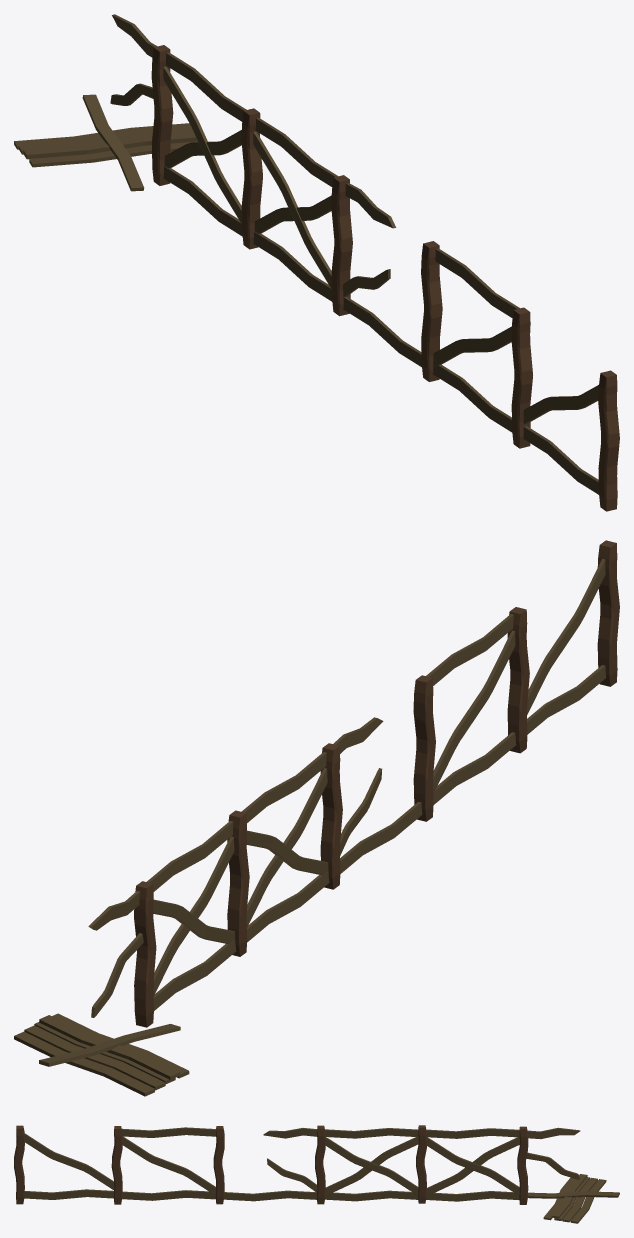
Rendered from Fence1.fbx.
3 renders of one model, top to bottom at view 1: azimuth 30°, elevation 25°; view 2: azimuth 150°, elevation 25°; view 3: azimuth 270°, elevation 25°, orthographic. The views are drawn at different scales.
Visible parts, largest first — view 1: Cube, Cube.002, Cube.007, Cube.011, Cube.016, Cube.021, Cube.015, Cube.020, Cube.029, Cube.027, Cube.006, Cube.009 (+14 smaller); view 2: Cube.007, Cube.021, Cube, Cube.002, Cube.011, Cube.016, Cube.004, Cube.001, Cube.012, Cube.017, Cube.024, Cube.027 (+15 smaller); view 3: Cube.012, Cube.004, Cube.017, Cube.001, Cube.015, Cube.020, Cube.006, Cube.019, Cube.014, Cube.005, Cube.009, Cube.013 (+18 smaller).
Boxes of the visible parts, x1,y1,x2,y2 form: Cube: (598,370,619,511); Cube.002: (511,307,532,448); Cube.007: (421,241,442,381); Cube.011: (331,175,352,316); Cube.016: (241,108,262,249); Cube.021: (151,45,173,185); Cube.015: (253,131,331,288); Cube.020: (163,66,241,223); Cube.029: (82,94,144,191); Cube.027: (23,132,197,158); Cube.006: (435,248,519,318); Cube.009: (343,296,421,367); Cube.007: (413,675,435,821); Cube.021: (134,881,156,1027); Cube: (597,540,619,686); Cube.002: (507,607,529,753); Cube.011: (320,743,342,889); Cube.016: (227,810,249,956); Cube.004: (433,630,515,793); Cube.001: (527,558,605,714); Cube.012: (246,768,327,927); Cube.017: (153,836,234,995); Cube.024: (14,1031,154,1096); Cube.027: (39,1015,180,1079); Cube.012: (325,1137,418,1195); Cube.004: (122,1136,215,1192); Cube.017: (427,1137,519,1195); Cube.001: (24,1133,114,1189); Cube.015: (325,1137,418,1195); Cube.020: (426,1137,519,1195); Cube.006: (121,1127,216,1137); Cube.019: (426,1128,519,1138); Cube.014: (324,1128,418,1138); Cube.005: (122,1190,215,1200); Cube.009: (224,1190,316,1201); Cube.013: (325,1190,418,1201).
Bounding box in the file's own units: 408 × 326 × 2321.
